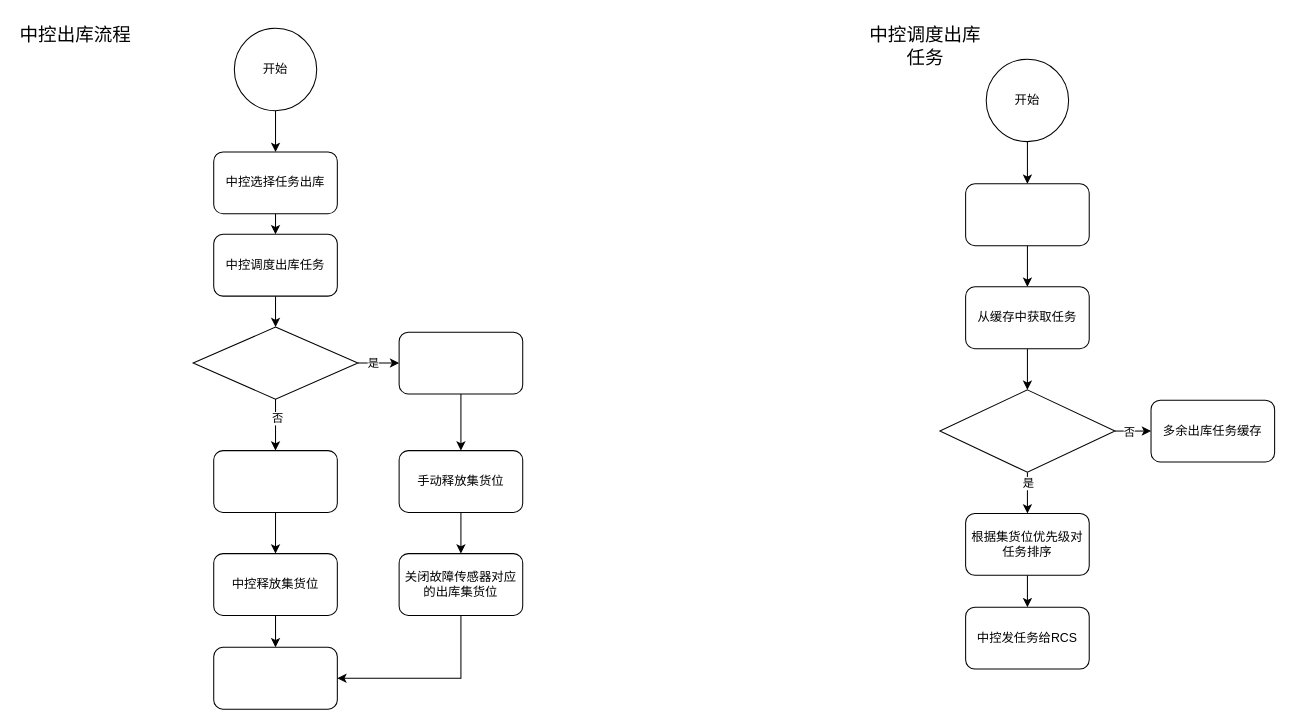
This 1293x727 diagram has some shape labels left out. The shapes that lost their labels are listed below. From the top down, each one's box as (x1, y1, x2, y2) in pixels, then its label:
(965, 183, 1089, 246): 获取空闲集货位列表
(192, 326, 358, 399): 传感器异常？
(398, 331, 523, 394): 无法收到任务完成回调
(939, 389, 1115, 472): 出库任务数≤集货位数量？
(213, 450, 337, 512): 中控收到RCS 任务完成回调
(213, 646, 337, 709): 中控更新集货位状态为空闲
